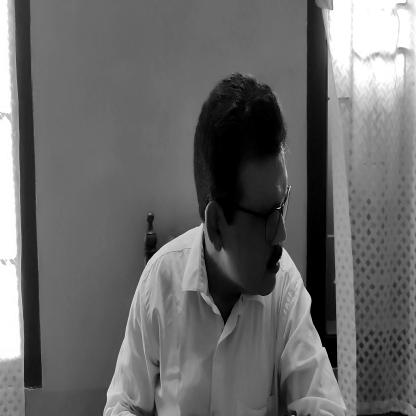Distracted: (200, 92, 289, 302)
